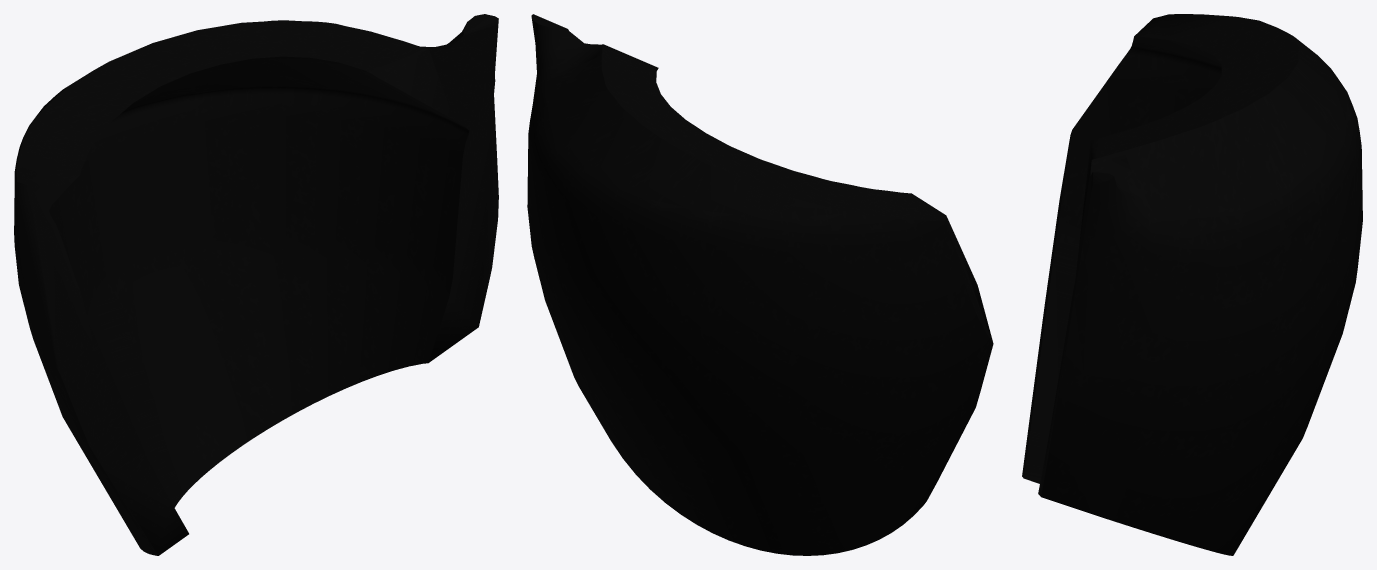
The picture shows the model from 3 angles, left to right: view 1: azimuth 30°, elevation 25°; view 2: azimuth 150°, elevation 25°; view 3: azimuth 270°, elevation 25°; orthographic projection. The views are drawn at different scales.
Visible parts, largest first — view 1: Cylinder_cell.004; view 2: Cylinder_cell.004; view 3: Cylinder_cell.004.
Part boxes in pixels (x1,y1,x2,y2): Cylinder_cell.004: (14,14,498,555); Cylinder_cell.004: (527,14,993,555); Cylinder_cell.004: (1022,14,1362,555).
Bounding box in the file's own units: 1.74 × 1.62 × 0.9381.
Materials: 1 (1 with a texture image).
